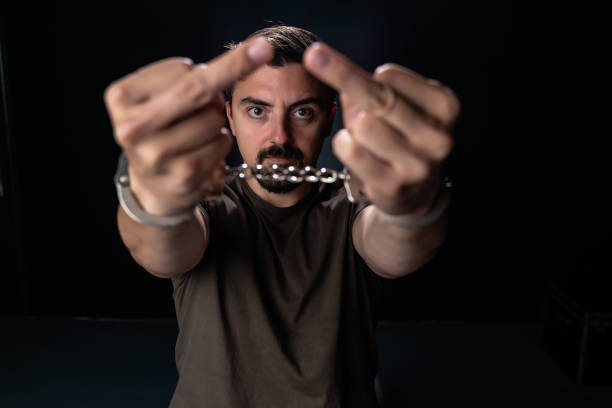insulting_gesture: (305, 40, 463, 215), (104, 37, 274, 195)
